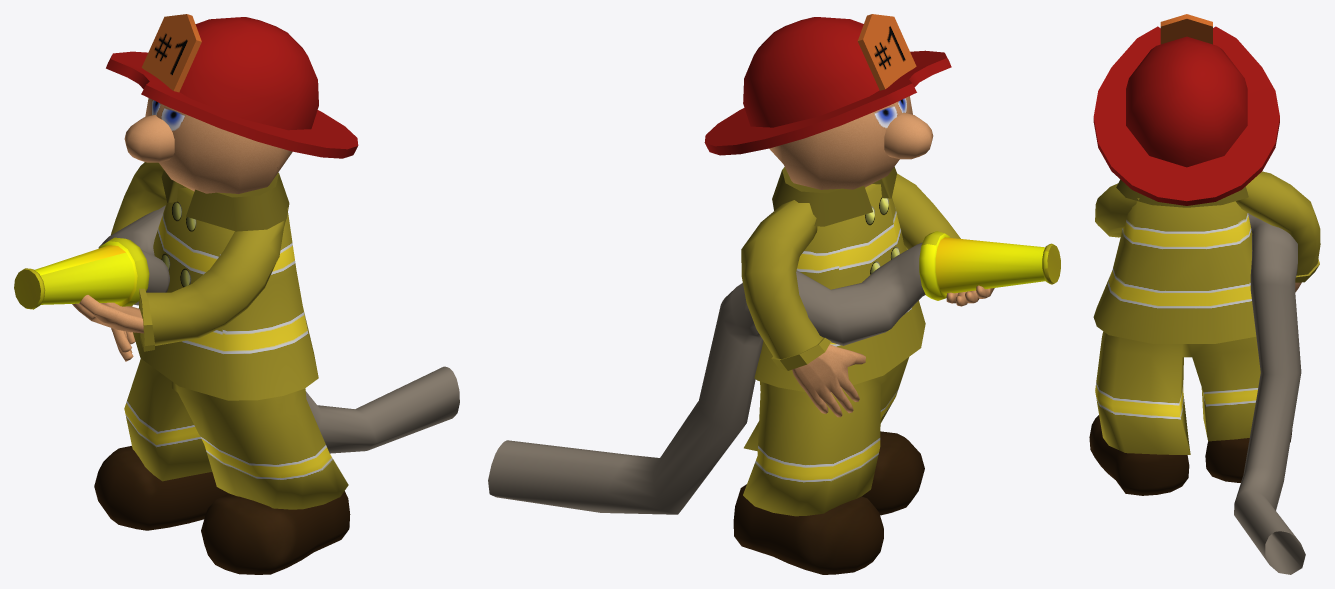
File: FireFighter_hose_textured 1.fbx
3 views of the same model, side by side, from view 1: azimuth 30°, elevation 25°; view 2: azimuth 150°, elevation 25°; view 3: azimuth 270°, elevation 25° (orthographic). The views are drawn at different scales.
Parts seen in each view (by area): view 1: polySurface355; view 2: polySurface355; view 3: polySurface355.
Boxes of the visible parts, x1,y1,x2,y2 form: polySurface355: [14, 14, 459, 574]; polySurface355: [488, 14, 1060, 574]; polySurface355: [1089, 14, 1320, 574].
Size of the model in its own units: 464 by 469 by 227.
